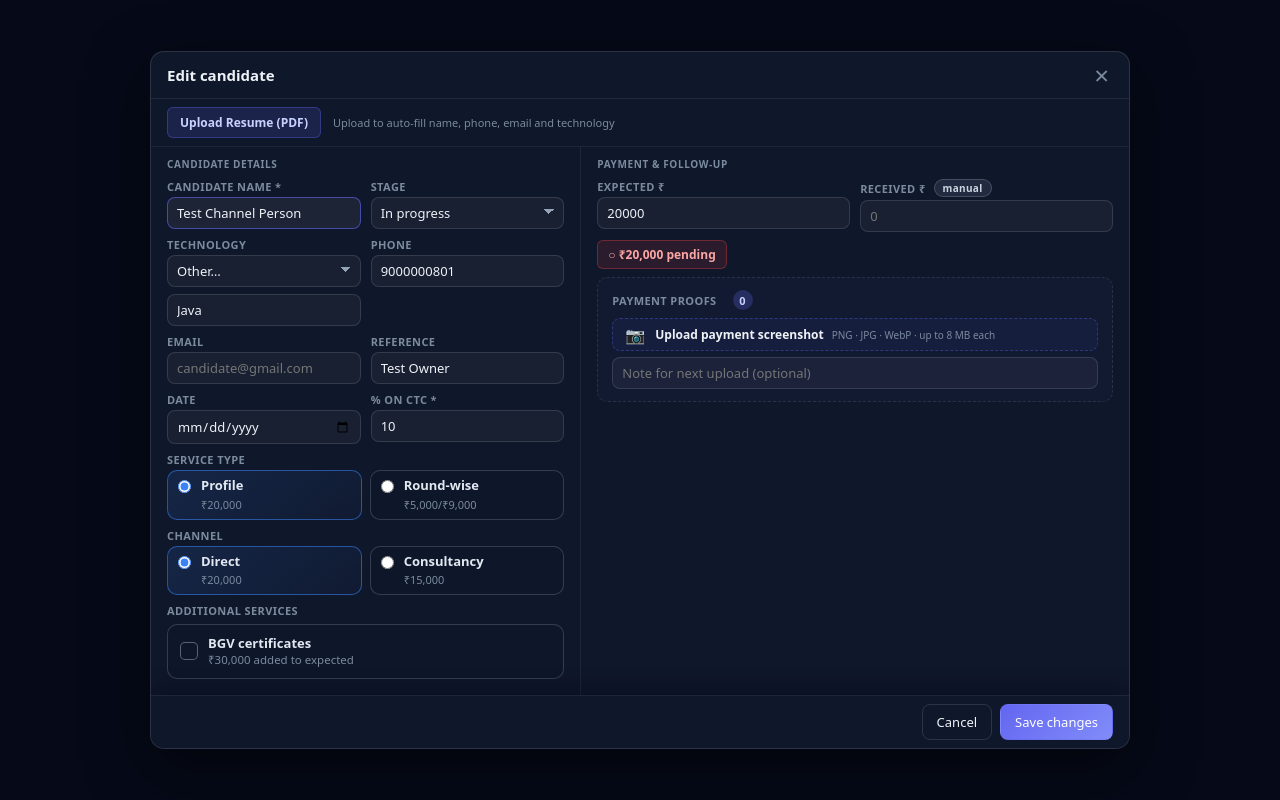
Test: choosing a channel reprices the default and nothing else › Direct -> Consultancy moves ₹20,000 to ₹15,000, and back
Click the radio button labelled "Consultancy ₹15,000" at (387, 562), box [381,556,394,569]
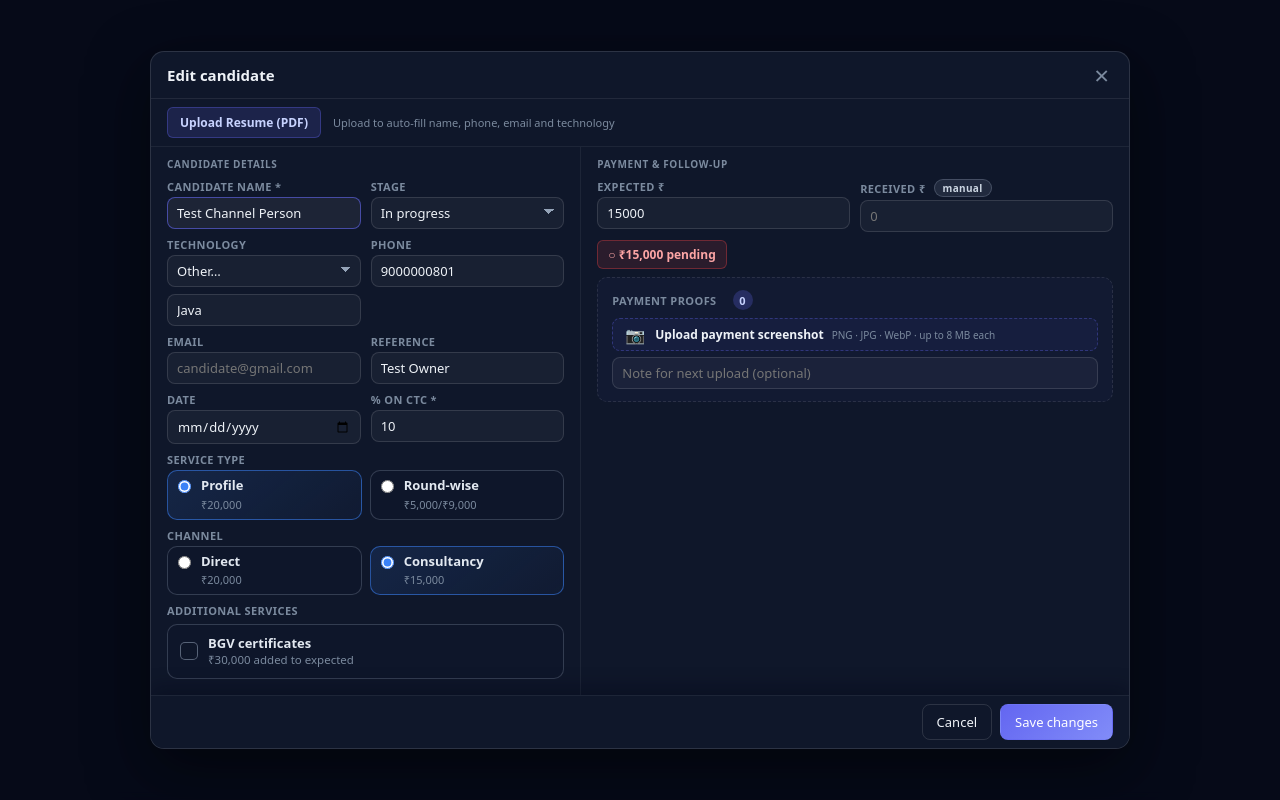
Expected: the number field labelled "Expected ₹" holds "15000", [597,197,850,229]
Click the radio button labelled "Direct ₹20,000" at (184, 562), box [178,556,191,569]
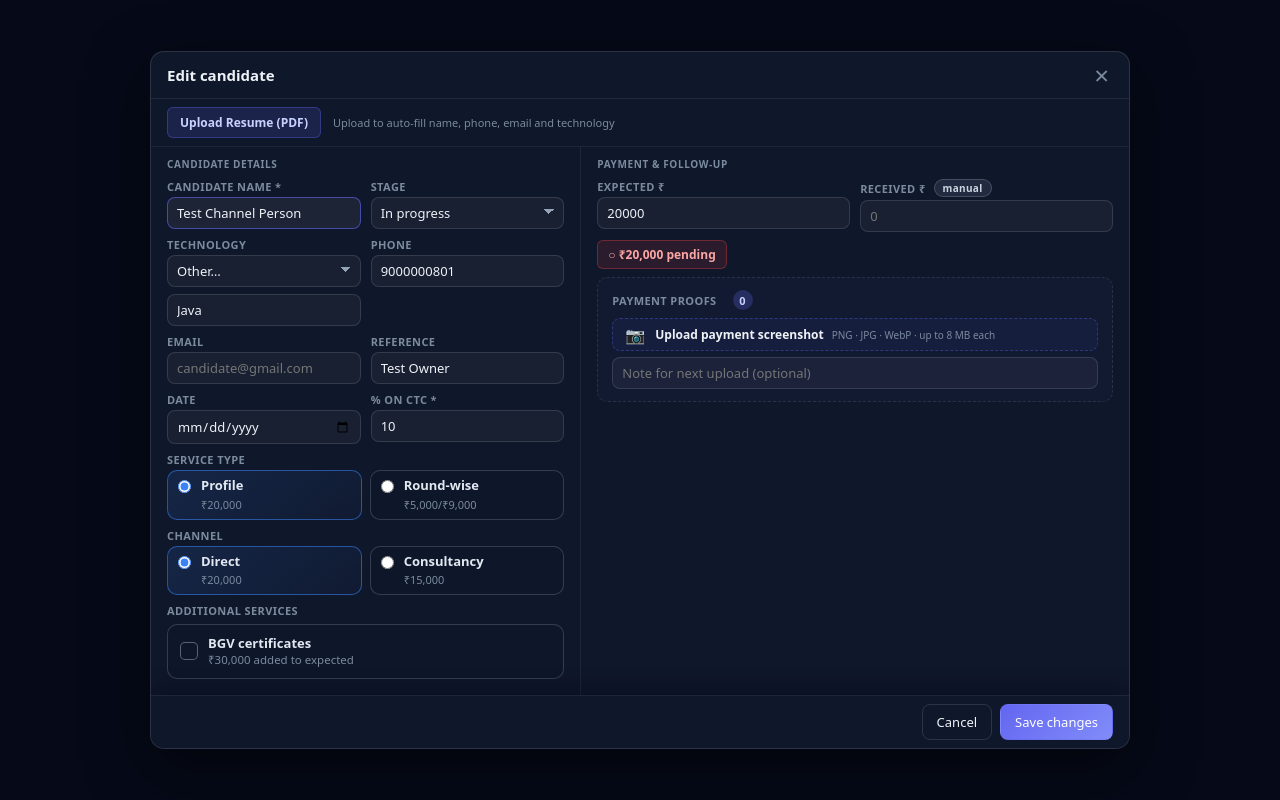
Expected: the number field labelled "Expected ₹" holds "20000", [597,197,850,229]
